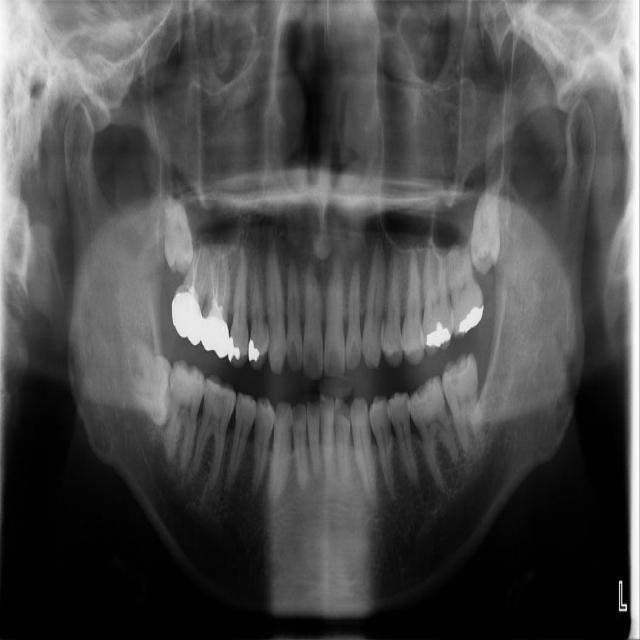3M ESPE Implant: (162, 196, 194, 276)
52: (449, 281, 486, 341), (169, 290, 206, 349), (419, 304, 456, 359), (200, 316, 229, 359), (226, 320, 251, 369), (246, 323, 271, 372)
73: (171, 239, 220, 317), (201, 238, 235, 327), (614, 586, 622, 610)
BioHorizons Implant: (442, 232, 488, 341)
BioLife Implant: (468, 177, 506, 277)
Blue Sky Bio Implant: (439, 351, 487, 463)
Caries: (168, 240, 214, 346)
Implant: (158, 357, 209, 472)
Keystone Dental Implant: (129, 342, 177, 426)
